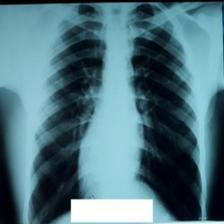tuberculosis: (22, 4, 205, 224)
